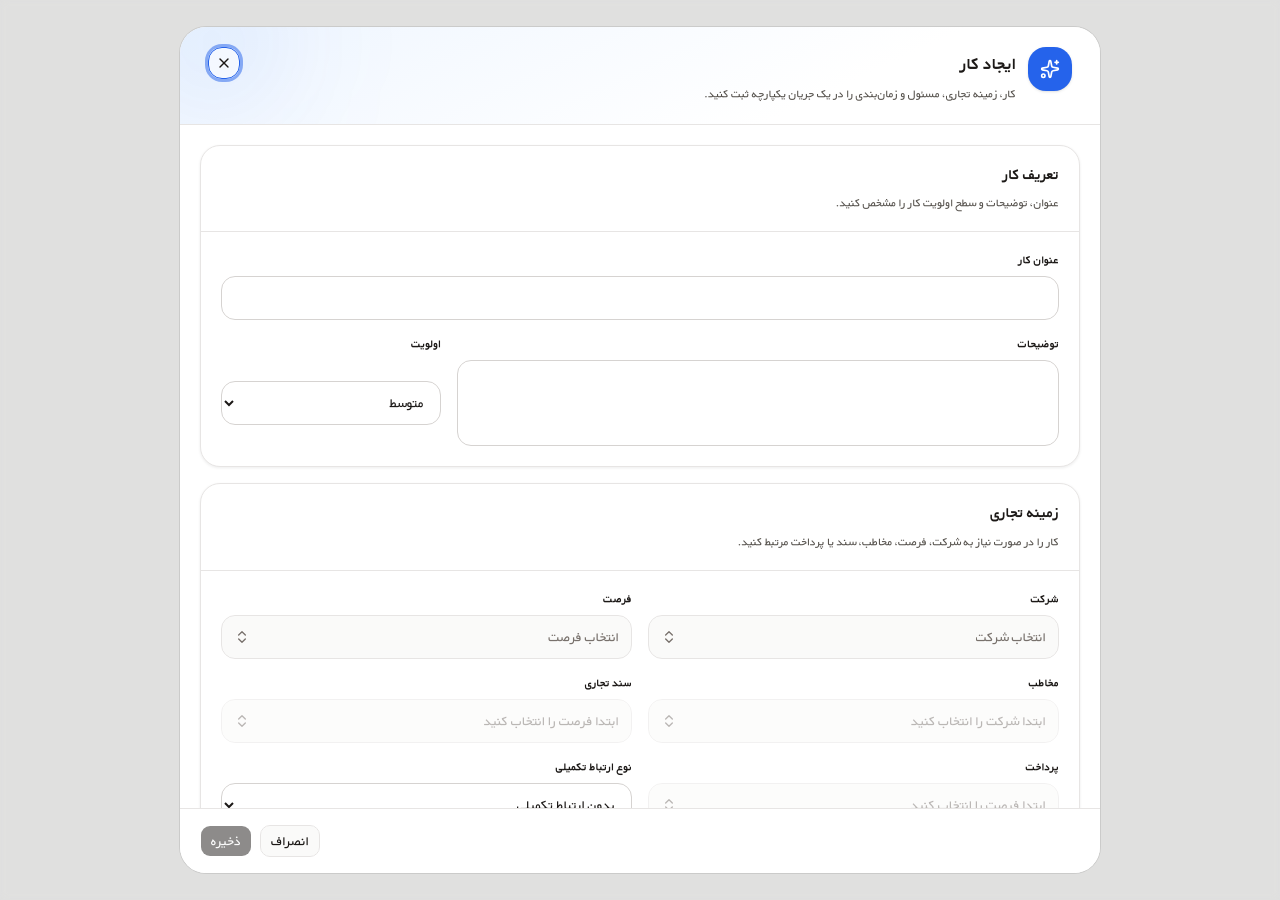
Test: Task create submits unchanged domain payload and displays a 409 business message
This screenshot has width=1280, height=900.
Type "کار جدید" into the field labelled "عنوان کار" at (640, 298), box [221,276,1059,320]
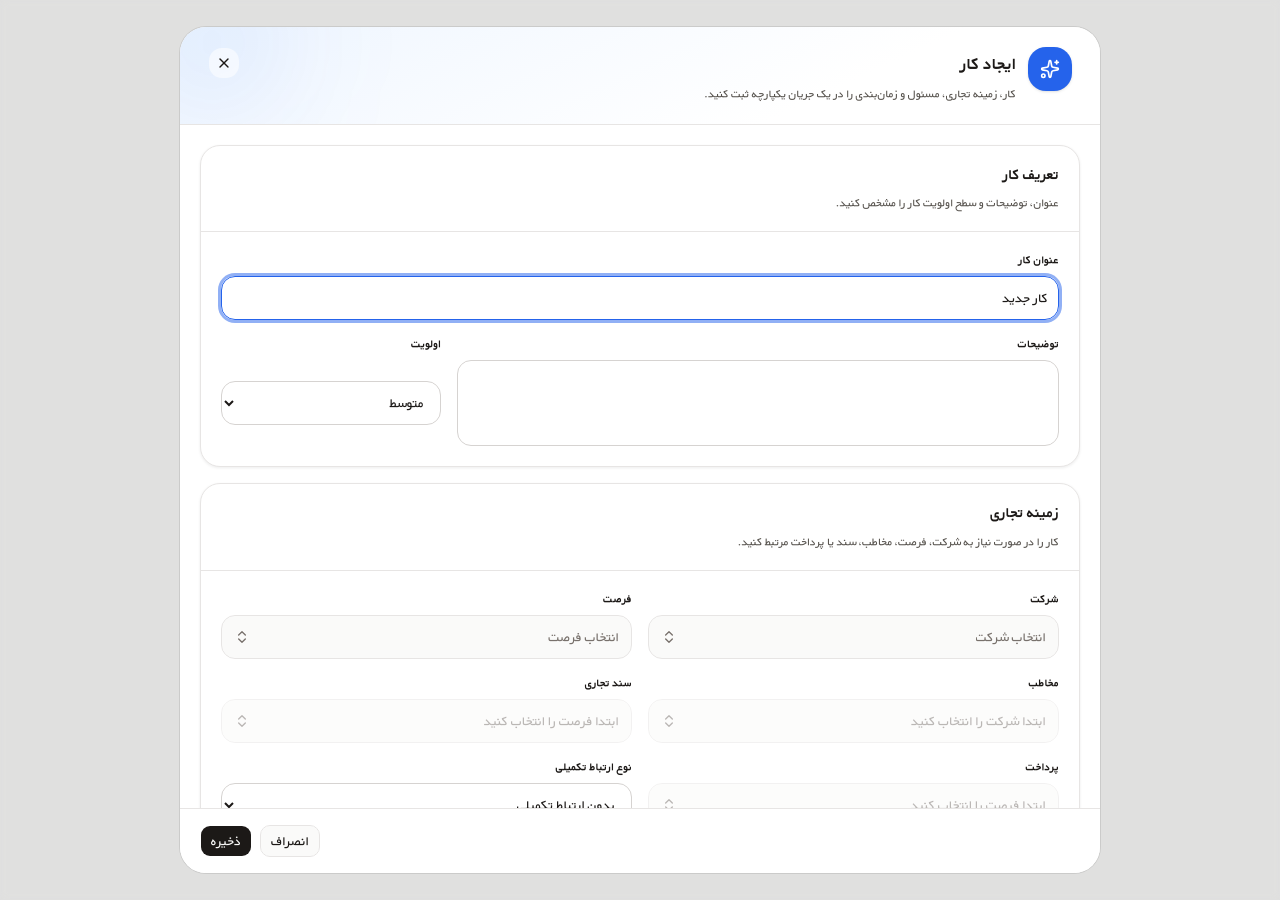
Click the button "ذخیره" at (226, 841), box [200,825,252,857]
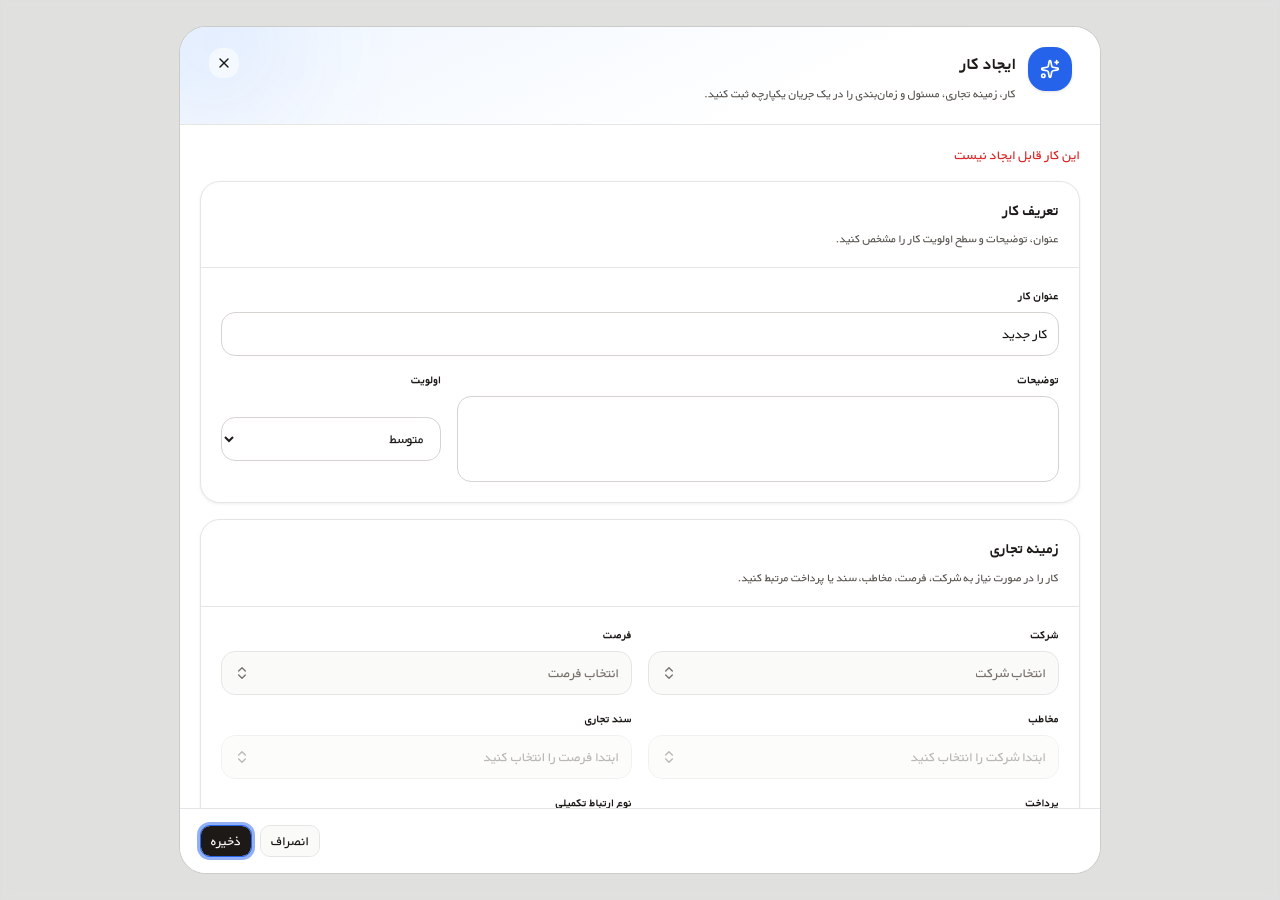
expect the message reads "این کار قابل ایجاد نیست": met, box [955,145,1080,165]
